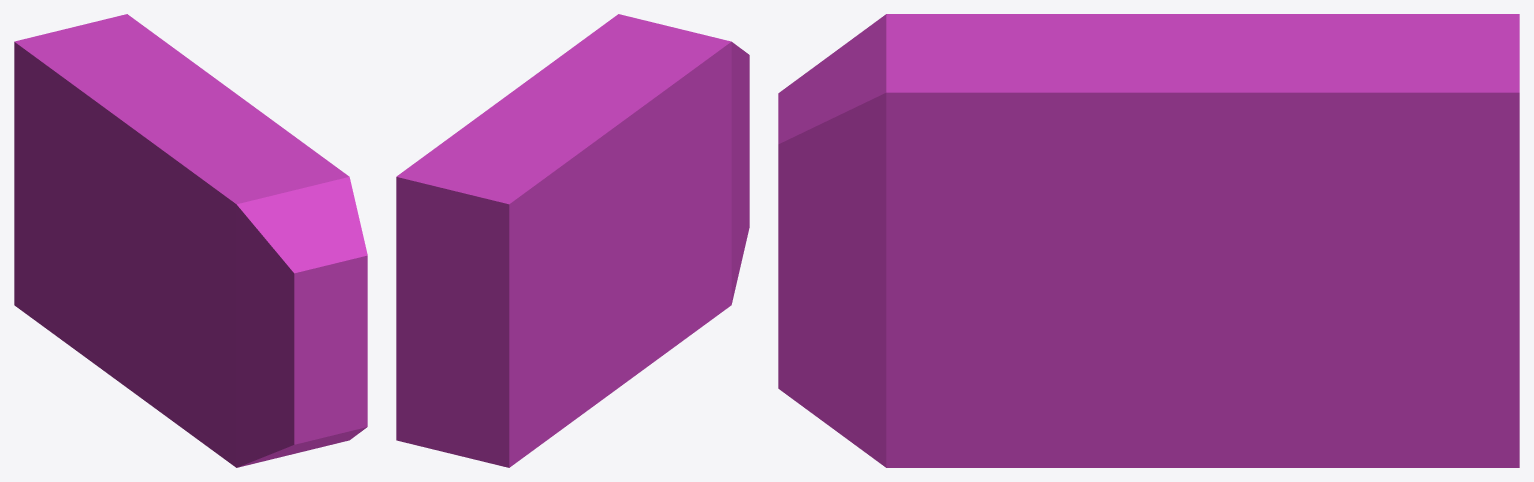
3 views of the same model, side by side, from view 1: azimuth 30°, elevation 25°; view 2: azimuth 150°, elevation 25°; view 3: azimuth 270°, elevation 25° (orthographic). The views are drawn at different scales.
Parts seen in each view (by area): view 1: Cube; view 2: Cube; view 3: Cube.
Boxes of the visible parts, x1,y1,x2,y2 form: Cube: (14,14,367,467); Cube: (396,14,749,467); Cube: (778,14,1519,467).
Size of the model in its own units: 0.1026 by 0.4089 by 0.2284.
